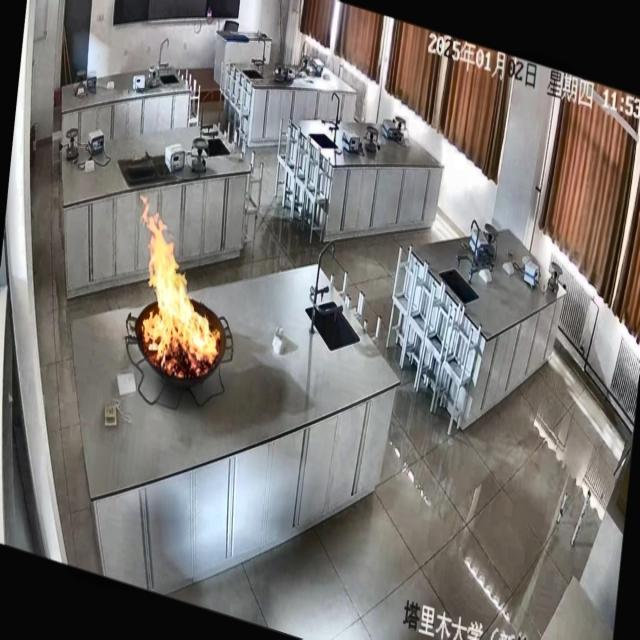fire: (112, 171, 249, 424)
